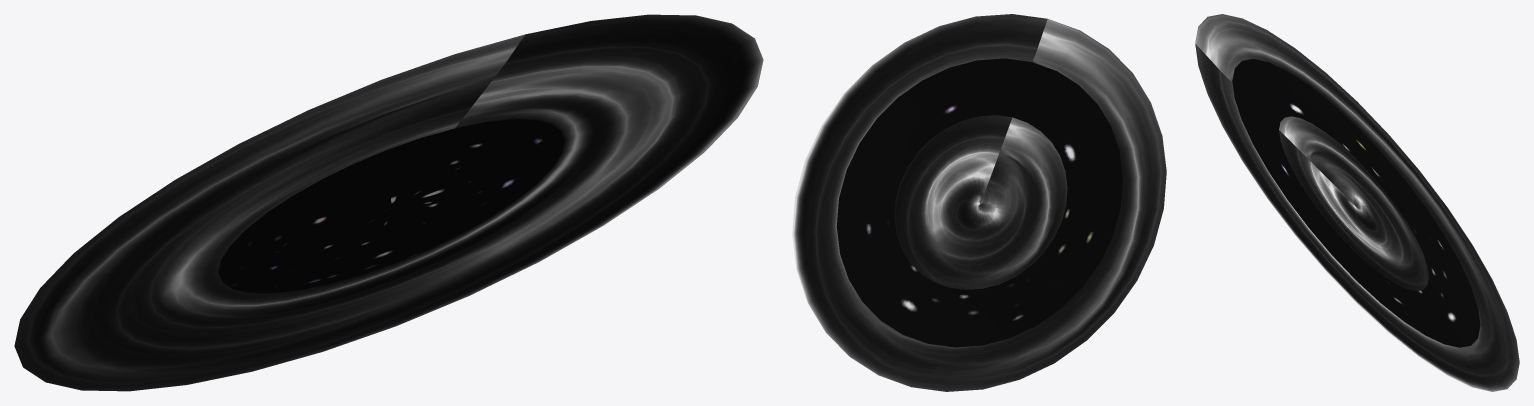
The model's file is fx_m10418_skill03_floor.fbx.
3 views of the same model, side by side, from view 1: azimuth 30°, elevation 25°; view 2: azimuth 150°, elevation 25°; view 3: azimuth 270°, elevation 25° (orthographic). The views are drawn at different scales.
Parts seen in each view (by area): view 1: aura, galaxy; view 2: aura, galaxy; view 3: aura, galaxy.
Part boxes in pixels (x1,y1,x2,y2): aura: (14, 14, 763, 391); galaxy: (218, 119, 565, 293); aura: (792, 14, 1166, 391); galaxy: (836, 58, 1122, 347); aura: (1195, 14, 1519, 391); galaxy: (1232, 59, 1480, 347).
Bounding box in the file's own units: 1237 × 910 × 838.
Materials: 2 (2 with a texture image).
